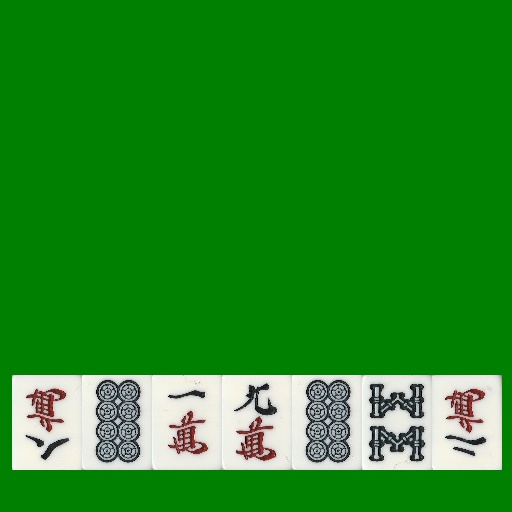1m: (152, 375, 222, 470)
2m: (432, 375, 502, 470)
8m: (12, 375, 82, 470)
8p: (82, 375, 152, 470), (292, 375, 362, 470)
8s: (362, 375, 432, 470)
9m: (222, 375, 292, 470)
